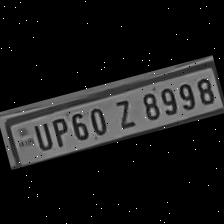0: (82, 100, 113, 138)
6: (64, 106, 92, 142)
8: (134, 86, 164, 123), (190, 73, 217, 106)
9: (172, 77, 197, 112), (155, 82, 180, 116)
P: (45, 112, 73, 148)
U: (27, 118, 54, 153)
Z: (106, 94, 139, 132)
